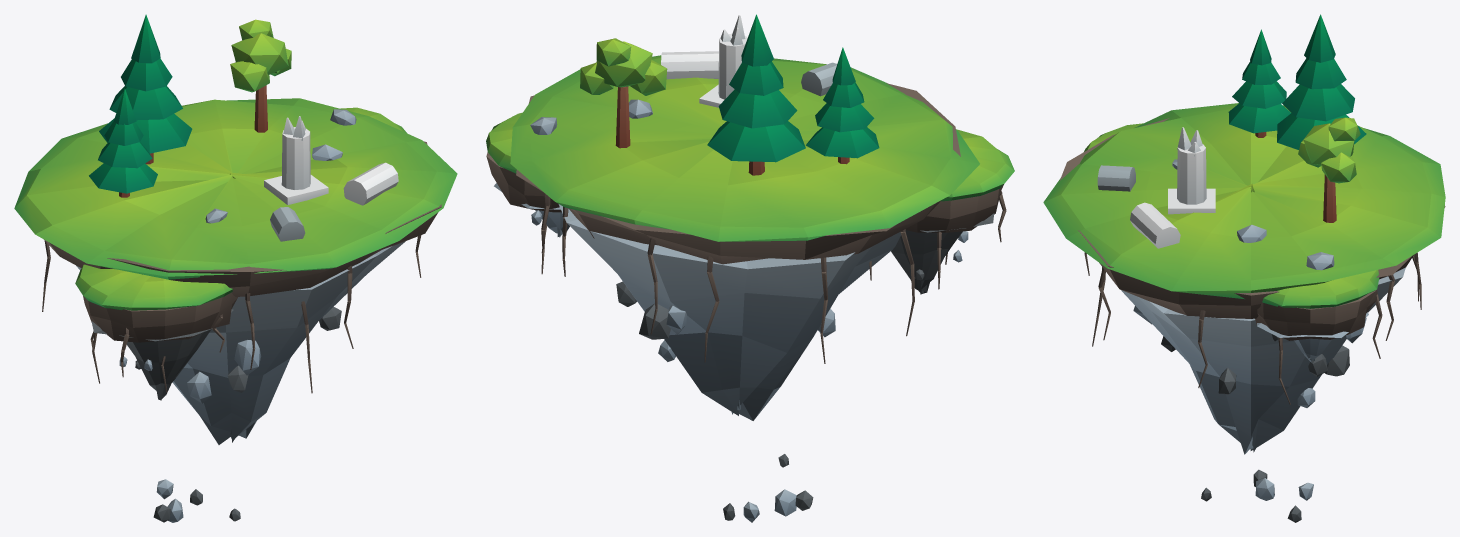
The model's file is floating_isle_b.glb.
3 renders of one model, left to right at view 1: azimuth 30°, elevation 25°; view 2: azimuth 150°, elevation 25°; view 3: azimuth 270°, elevation 25°, orthographic. The views are drawn at different scales.
Visible parts, largest first — view 1: floating_isle_b; view 2: floating_isle_b; view 3: floating_isle_b.
Part boxes in pixels (x1,y1,x2,y2): floating_isle_b: [14, 14, 457, 522]; floating_isle_b: [486, 14, 1014, 522]; floating_isle_b: [1043, 14, 1445, 522].
Bounding box in the file's own units: 23.22 × 27.42 × 20.39.
Materials: 1 (1 with a texture image).
